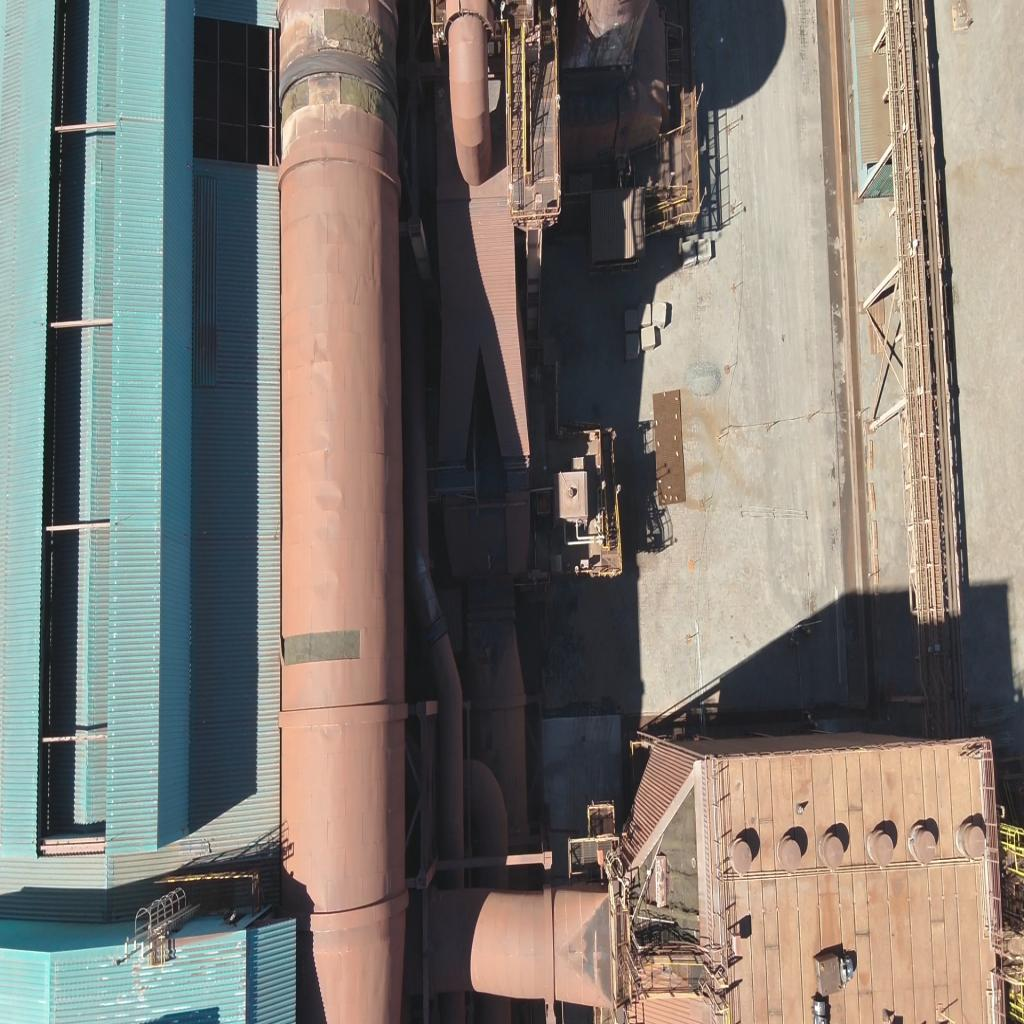Failures: (322, 5, 396, 63), (278, 634, 366, 665), (339, 74, 392, 119), (281, 73, 311, 115)
